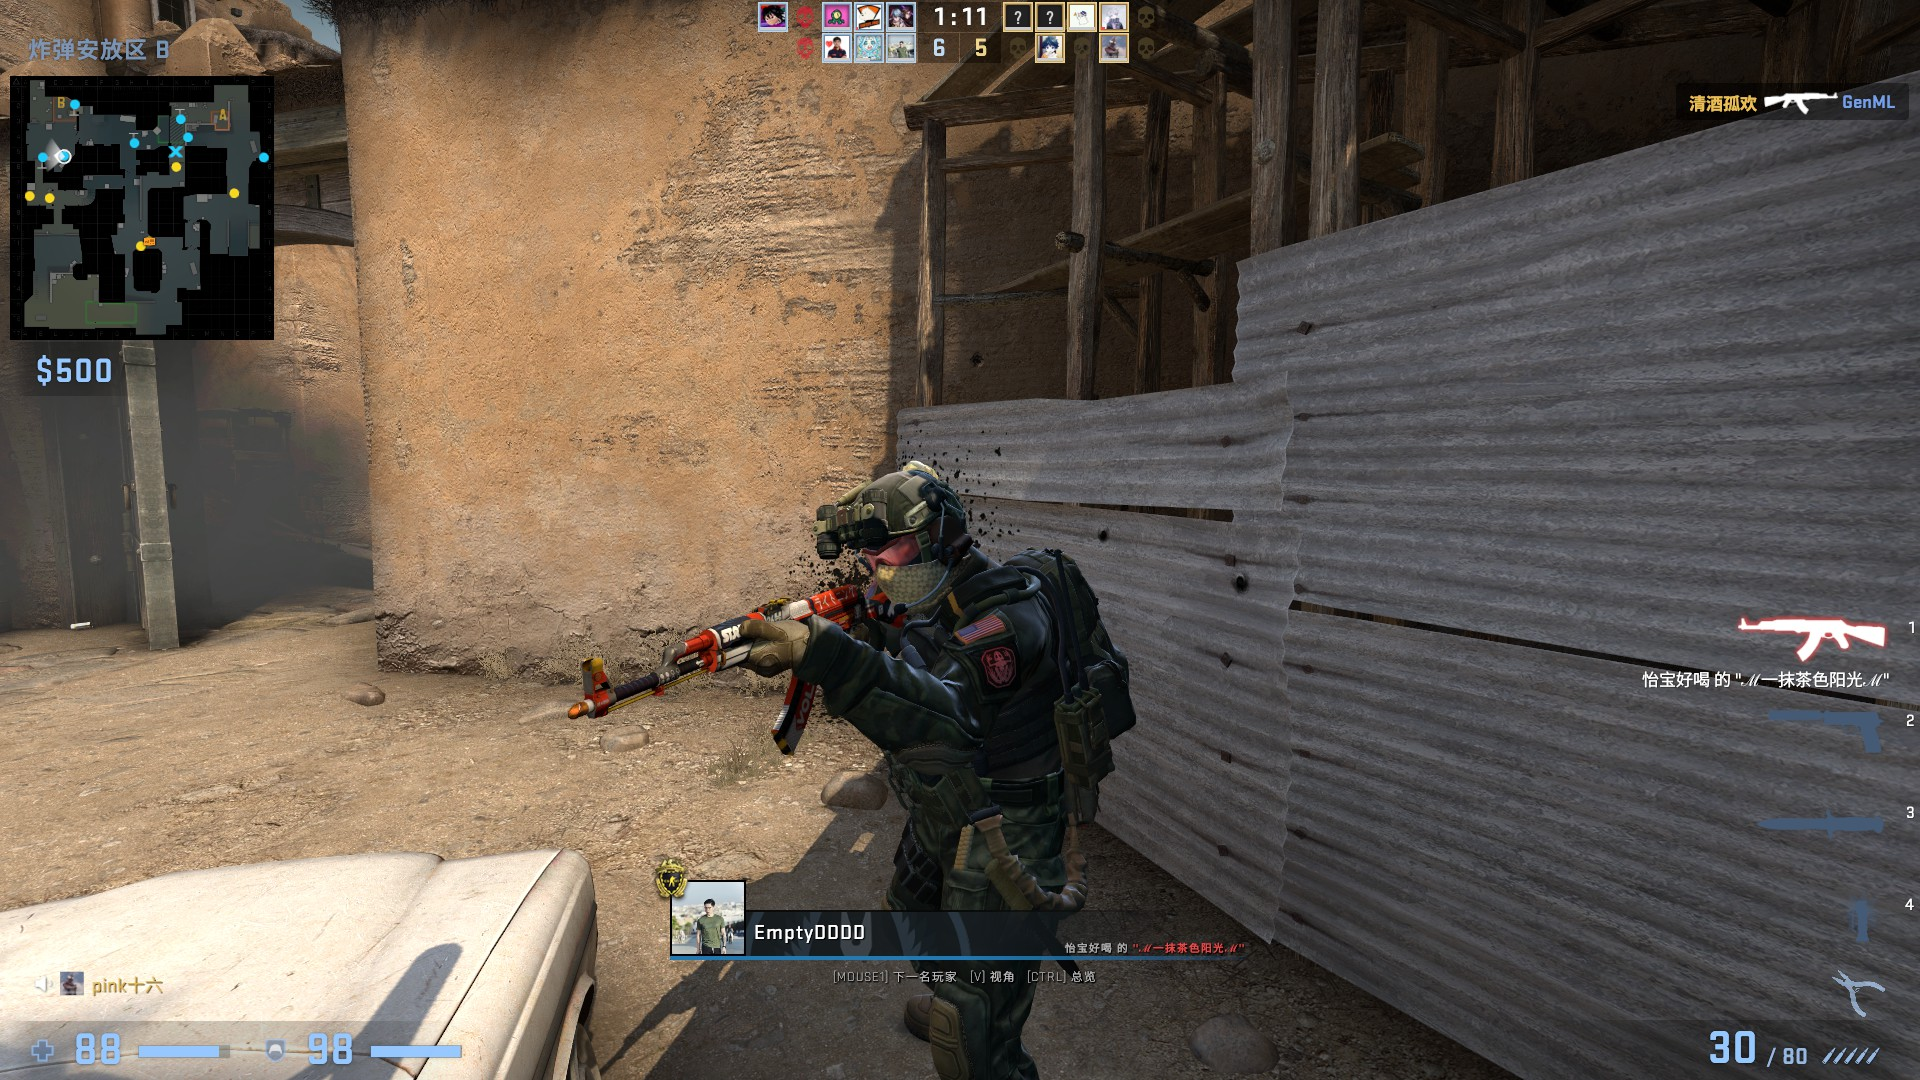head: (820, 461, 971, 608)
